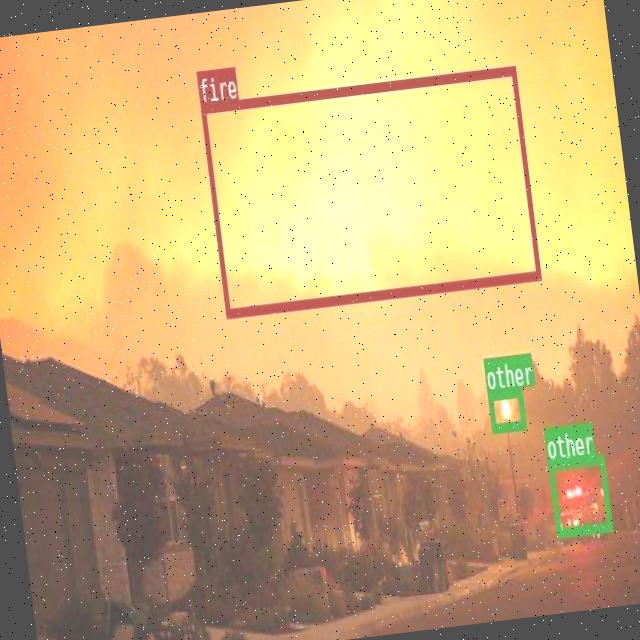fire: (200, 65, 540, 316)
